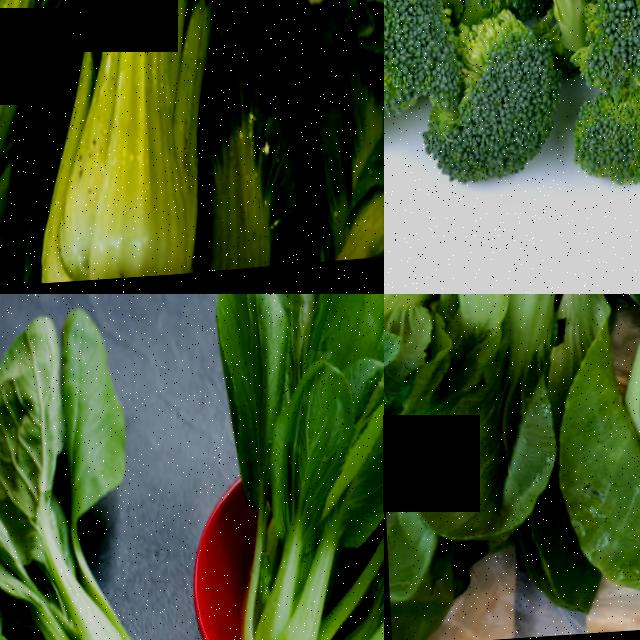-: (567, 0, 640, 192), (468, 37, 549, 176), (384, 0, 444, 114), (525, 0, 613, 58)
bok choy: (384, 294, 617, 576), (0, 335, 195, 640), (56, 0, 256, 284), (223, 294, 308, 640)
